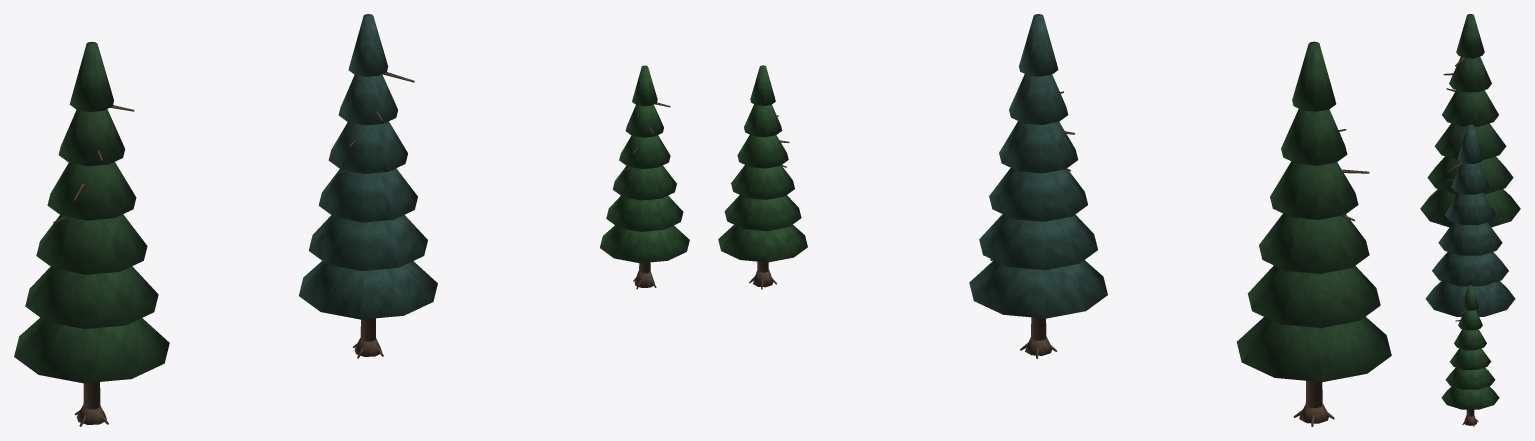
Rendered from tree_conifer.glb.
3 views of the same model, side by side, from view 1: azimuth 30°, elevation 25°; view 2: azimuth 150°, elevation 25°; view 3: azimuth 270°, elevation 25° (orthographic). The views are drawn at different scales.
Visible parts, largest first — view 1: tree_conifer_v1, tree_conifer_v2, tree_conifer_v3; view 2: tree_conifer_v1, tree_conifer_v2, tree_conifer_v3; view 3: tree_conifer_v2, tree_conifer_v1, tree_conifer_v3.
Part boxes in pixels (box(x1,y1,x2,y2)): tree_conifer_v1: box(14, 41, 169, 426); tree_conifer_v2: box(299, 14, 437, 358); tree_conifer_v3: box(600, 65, 689, 289); tree_conifer_v1: box(1236, 41, 1391, 426); tree_conifer_v2: box(969, 14, 1107, 358); tree_conifer_v3: box(718, 65, 807, 289); tree_conifer_v2: box(1425, 124, 1515, 316); tree_conifer_v1: box(1420, 14, 1520, 227); tree_conifer_v3: box(1441, 285, 1499, 426).
Bounding box in the file's own units: 19 × 10.4 × 3.99.
Materials: 2 (2 with a texture image).
